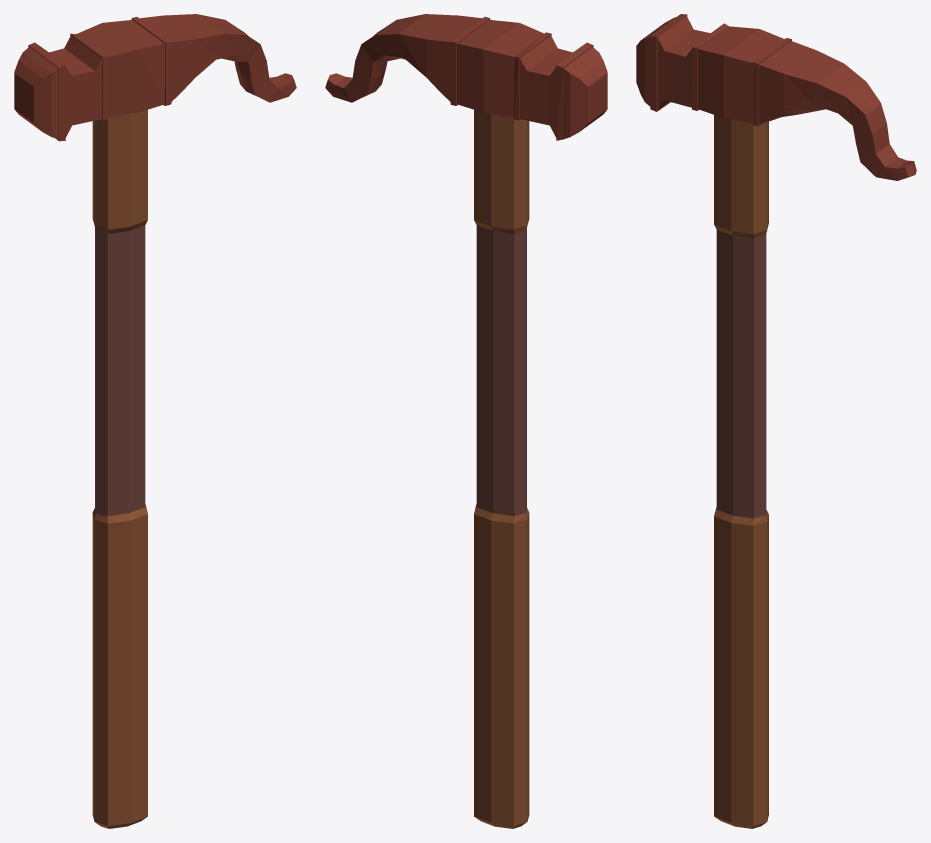
Rendered from hammer_7.FBX.
3 renders of one model, left to right at view 1: azimuth 30°, elevation 25°; view 2: azimuth 150°, elevation 25°; view 3: azimuth 330°, elevation 25°, orthographic.
Visible parts, largest first — view 1: hammer_7; view 2: hammer_7; view 3: hammer_7.
Boxes of the visible parts, <box> form: hammer_7: <box>14,14,296,828</box>; hammer_7: <box>325,14,607,828</box>; hammer_7: <box>636,14,916,828</box>.
Size of the model in its own units: 48.05 by 133 by 11.13.
